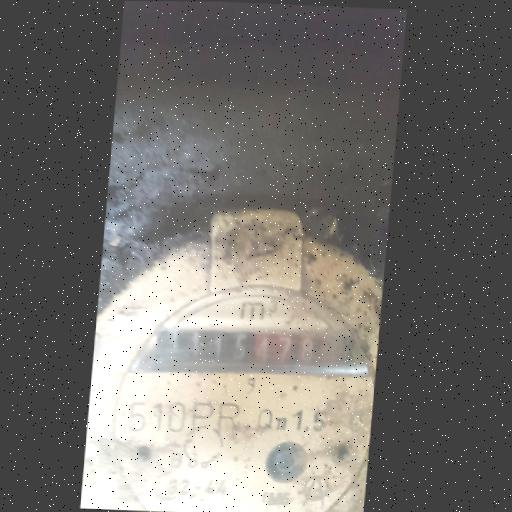1: (181, 327, 209, 363), (204, 329, 229, 365)
3: (162, 328, 185, 362)
4: (251, 332, 273, 365)
5: (225, 329, 251, 364)
7: (271, 332, 295, 365)
8: (295, 333, 315, 365)
border_water_meter_number: (150, 323, 349, 380)
